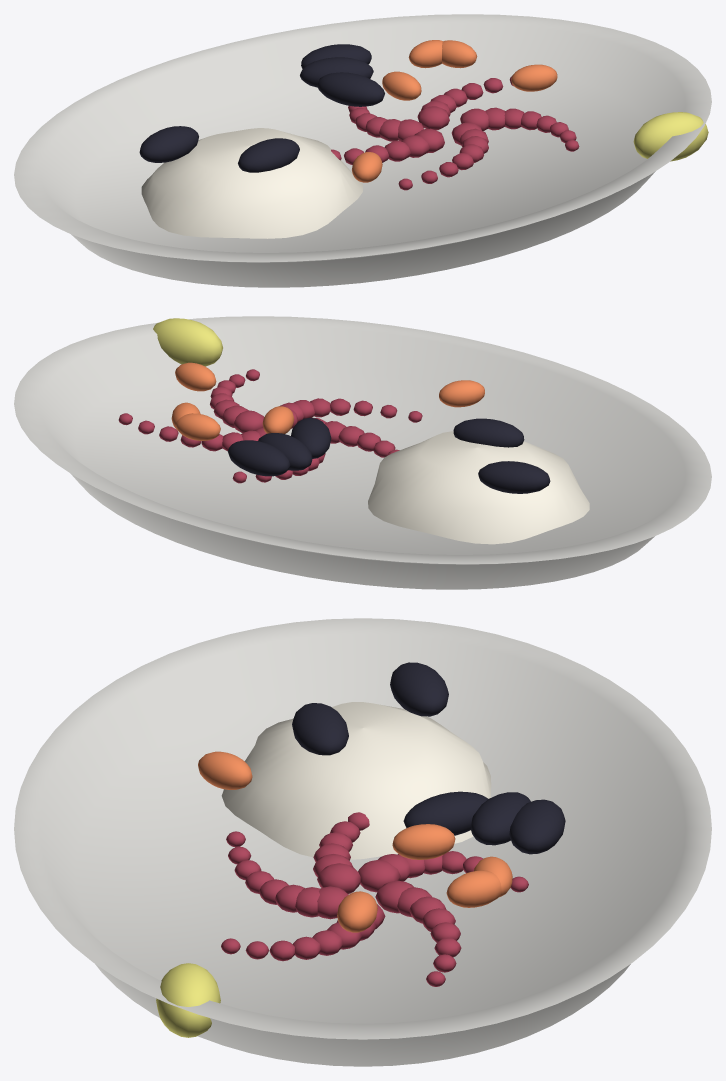
File: travessa-polvo.glb
3 renders of one model, top to bottom at view 1: azimuth 30°, elevation 25°; view 2: azimuth 150°, elevation 25°; view 3: azimuth 270°, elevation 25°, orthographic. The views are drawn at different scales.
Parts seen in each view (by area): view 1: travessa-polvo; view 2: travessa-polvo; view 3: travessa-polvo.
Boxes of the visible parts, x1,y1,x2,y2 form: travessa-polvo: [14, 14, 711, 287]; travessa-polvo: [14, 316, 711, 589]; travessa-polvo: [14, 618, 711, 1066].
Bounding box in the file's own units: 0.4 × 0.046 × 0.28.
